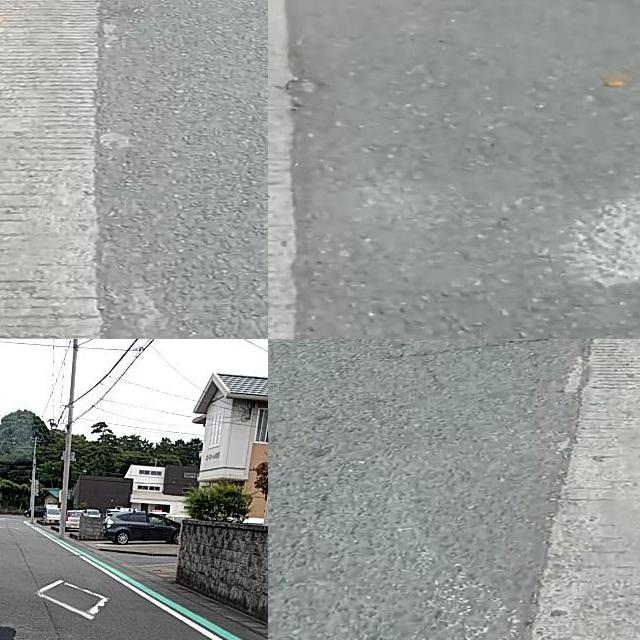Sambungan: (0, 0, 100, 339), (528, 339, 640, 640)
